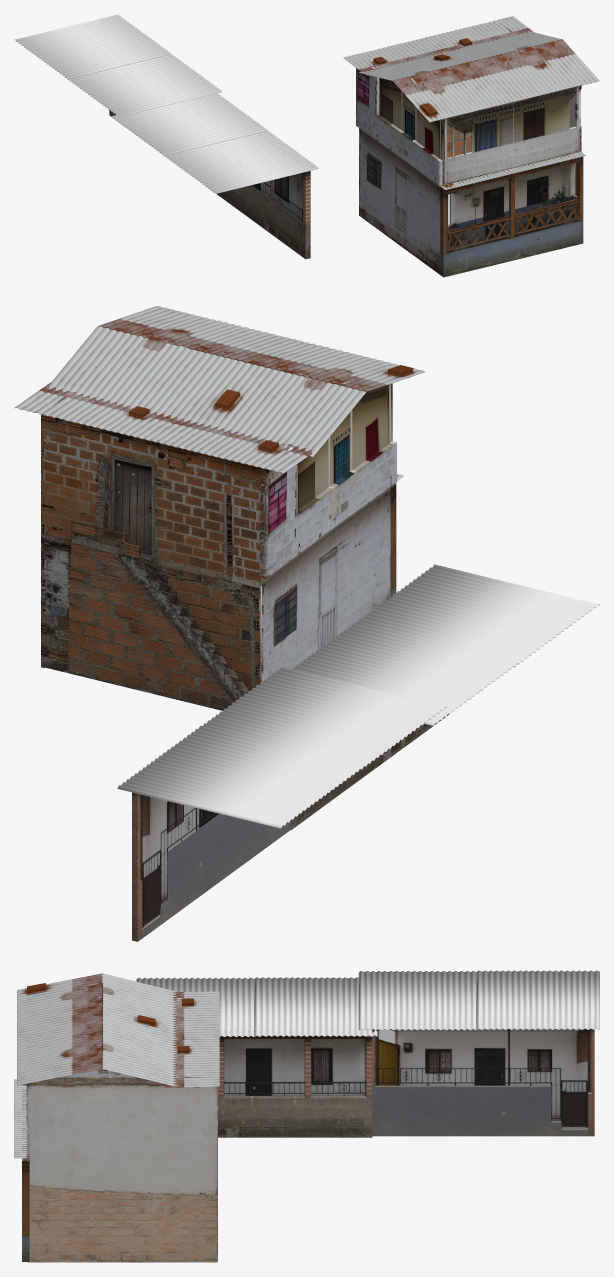
Rendered from casaA_izquierda_01_02.fbx.
The picture shows the model from 3 angles, top to bottom: view 1: azimuth 30°, elevation 25°; view 2: azimuth 150°, elevation 25°; view 3: azimuth 270°, elevation 25°; orthographic projection. The views are drawn at different scales.
Visible parts, largest first — view 1: Techo_1.010, casaA_01B.001, casaA_01.001, Techo_08.005, Techo_08.004, casaA_01.002, casaA_izquierda_01.001, casaA_01D.001, casaA_01C.001; view 2: casaA_01D.001, Techo_1.010, casaA_01B.001, Techo_08.005, Techo_08.004, casaA_izquierda_02.001, casaA_izquierda_01.001; view 3: casaA_01C.001, casaA_izquierda_02.001, Techo_1.010, casaA_izquierda_01.001, Techo_08.005, Techo_08.004, casaA_01.001, casaA_01B.001.
Boxes of the visible parts, box(x1,y1,x2,y2) form: Techo_1.010: box(343, 16, 599, 189); casaA_01B.001: box(356, 66, 443, 274); casaA_01.001: box(440, 152, 583, 277); Techo_08.005: box(14, 14, 221, 117); Techo_08.004: box(111, 93, 318, 193); casaA_01.002: box(440, 85, 581, 185); casaA_izquierda_01.001: box(206, 140, 310, 259); casaA_01D.001: box(445, 56, 491, 157); casaA_01C.001: box(500, 25, 580, 195); casaA_01D.001: box(41, 414, 261, 710); Techo_1.010: box(14, 306, 424, 480); casaA_01B.001: box(260, 380, 396, 682); Techo_08.005: box(117, 667, 446, 828); Techo_08.004: box(292, 564, 599, 726); casaA_izquierda_02.001: box(132, 792, 290, 941); casaA_izquierda_01.001: box(291, 573, 448, 829); casaA_01C.001: box(27, 1076, 217, 1262); casaA_izquierda_02.001: box(372, 1028, 594, 1136); Techo_1.010: box(14, 973, 219, 1158); casaA_izquierda_01.001: box(218, 1031, 372, 1137); Techo_08.005: box(358, 970, 599, 1030); Techo_08.004: box(136, 977, 377, 1037); casaA_01.001: box(22, 1085, 29, 1261); casaA_01B.001: box(64, 982, 182, 1076).
Size of the model in its own units: 1131 by 570 by 1494.
